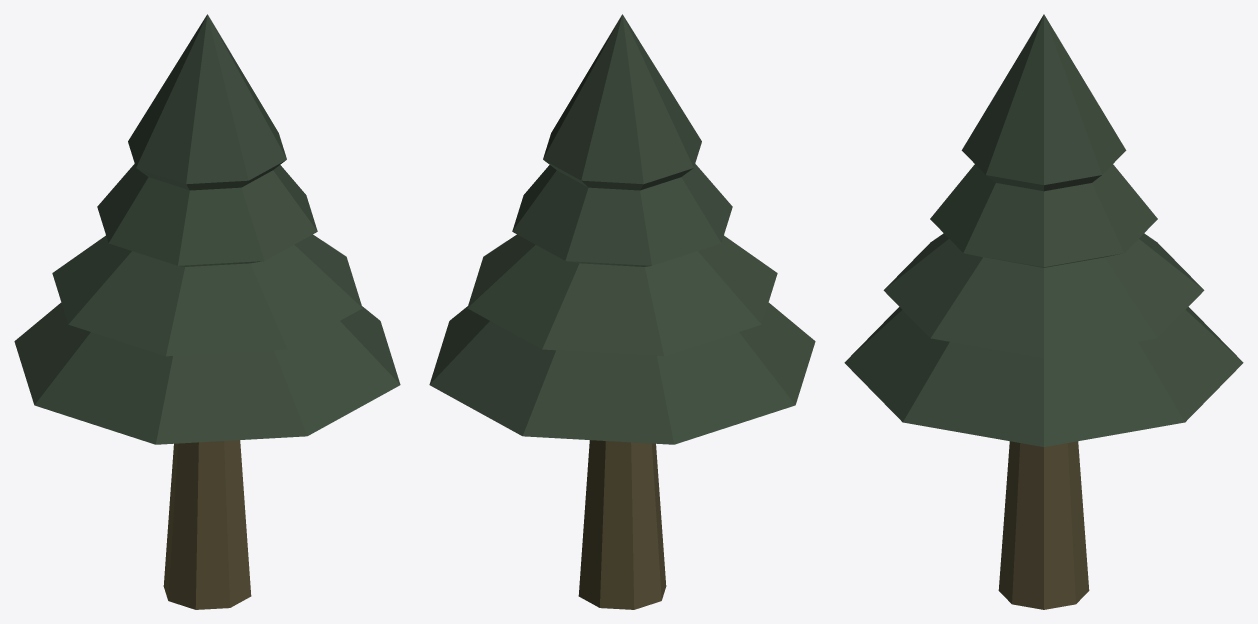
The model's file is Arbol con hojas 1.fbx.
3 views of the same model, side by side, from view 1: azimuth 30°, elevation 25°; view 2: azimuth 150°, elevation 25°; view 3: azimuth 270°, elevation 25° (orthographic).
Visible parts, largest first — view 1: Arbol_con_hojas_1; view 2: Arbol_con_hojas_1; view 3: Arbol_con_hojas_1.
Boxes of the visible parts, x1,y1,x2,y2 form: Arbol_con_hojas_1: (14,14,400,609); Arbol_con_hojas_1: (429,14,815,609); Arbol_con_hojas_1: (844,14,1243,609).
Size of the model in its own units: 9.21 by 14.67 by 9.21.
